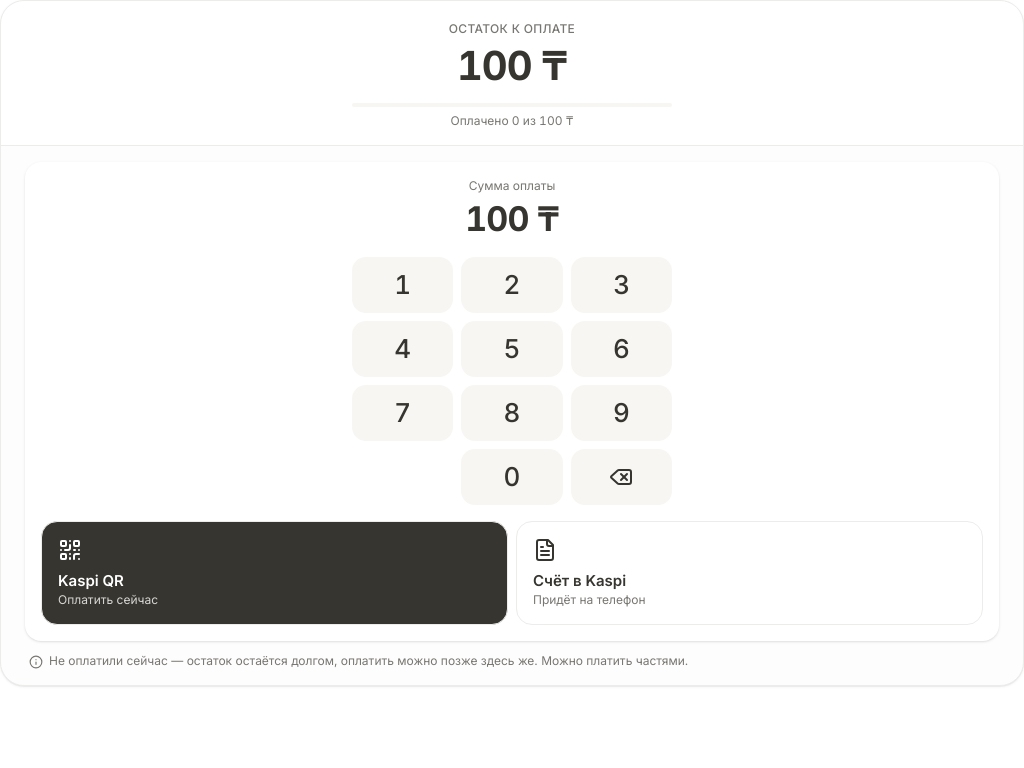
Test: оплата в кабинете как POS-терминал › не даёт оплатить больше доступного
The width and height of the screenshot is (1024, 768).
Click the button named "Цифра 5". click: (512, 348)
box: [461,320,563,376]
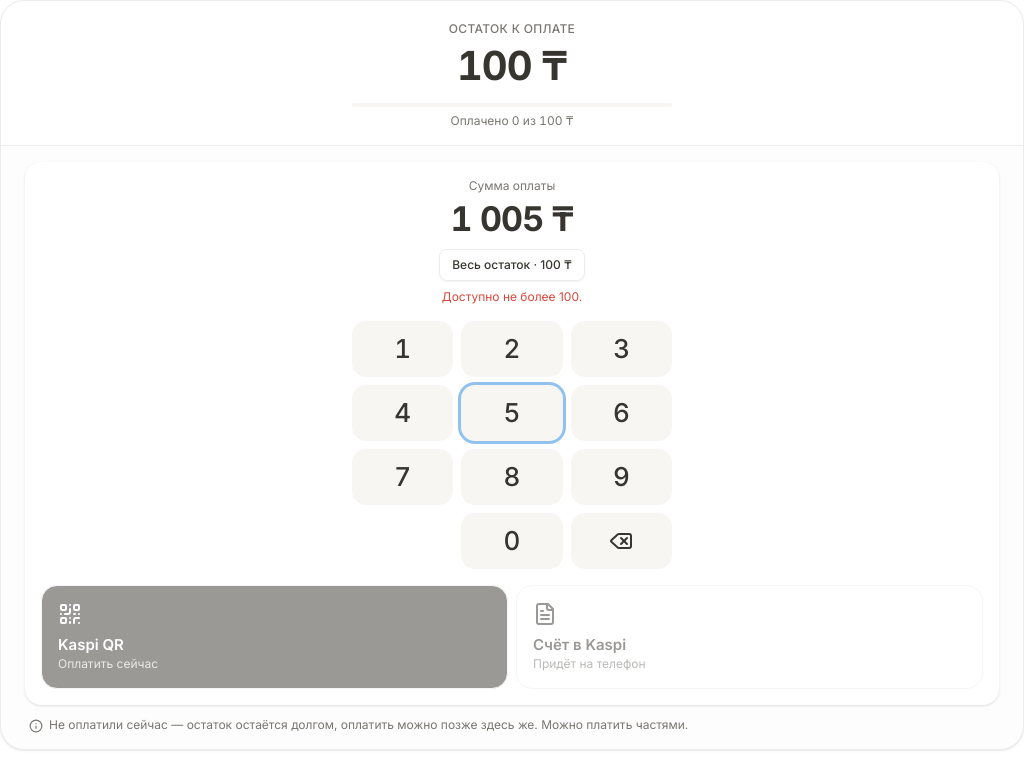
Check: the message shows "Доступно не более 100", box [442,288,582,304]
Check: the button "Kaspi QR Оплатить сейчас" is disabled, box [41,584,508,689]
